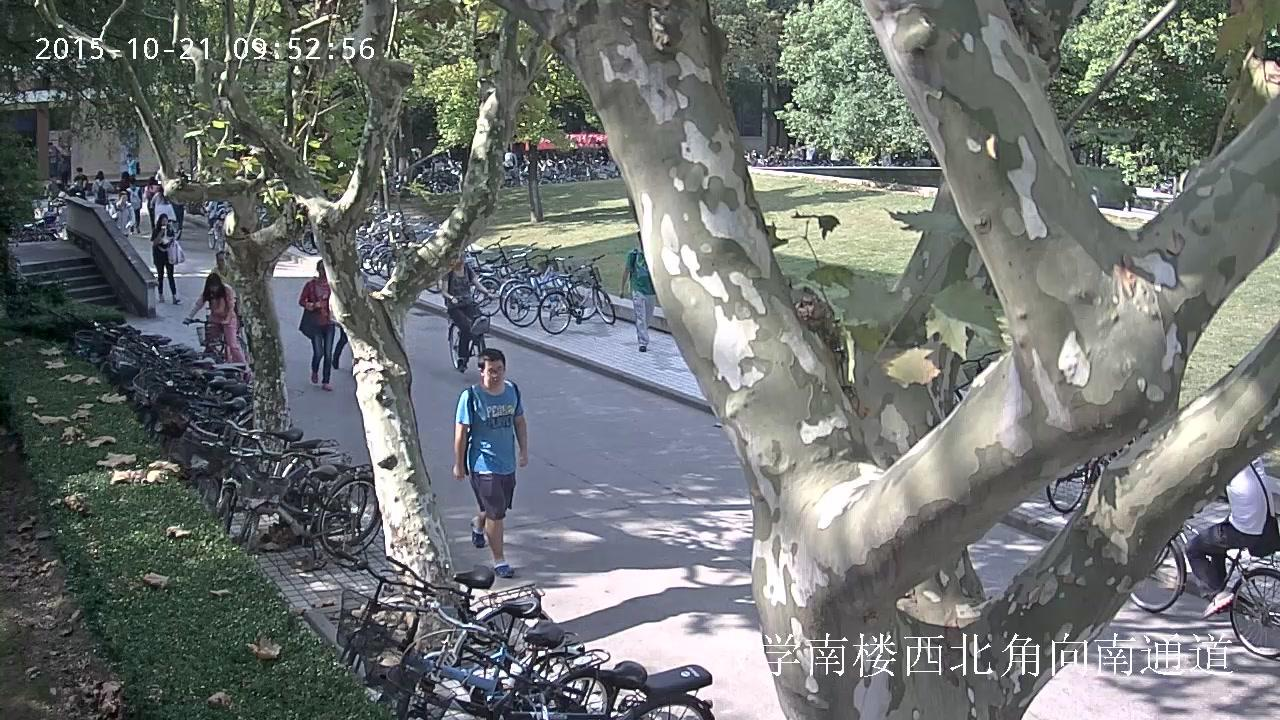face: (483, 359, 503, 388), (216, 253, 227, 266), (455, 256, 463, 271), (318, 261, 324, 275), (161, 217, 168, 224), (120, 194, 127, 201), (210, 285, 218, 290), (129, 183, 135, 189), (77, 171, 81, 175), (126, 156, 130, 159)
